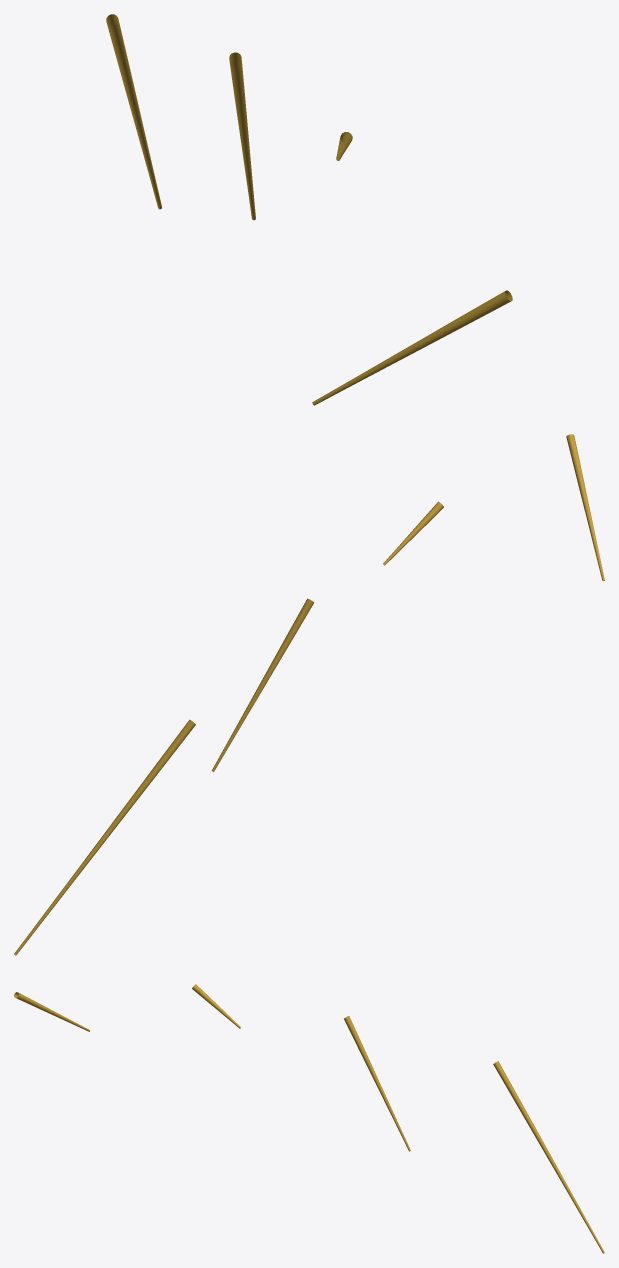
The picture shows the model from 3 angles, top to bottom: view 1: azimuth 30°, elevation 25°; view 2: azimuth 150°, elevation 25°; view 3: azimuth 270°, elevation 25°; orthographic projection. The views are drawn at different scales.
Visible parts, largest first — view 1: 右侧正中神经肌支; view 2: 右侧正中神经肌支; view 3: 右侧正中神经肌支.
Part boxes in pixels (x1,y1,x2,y2): 右侧正中神经肌支: (106,14,512,405); 右侧正中神经肌支: (14,434,604,955); 右侧正中神经肌支: (14,984,604,1253).
Bounding box in the file's own units: 0.0299 × 0.0337 × 0.0839.
